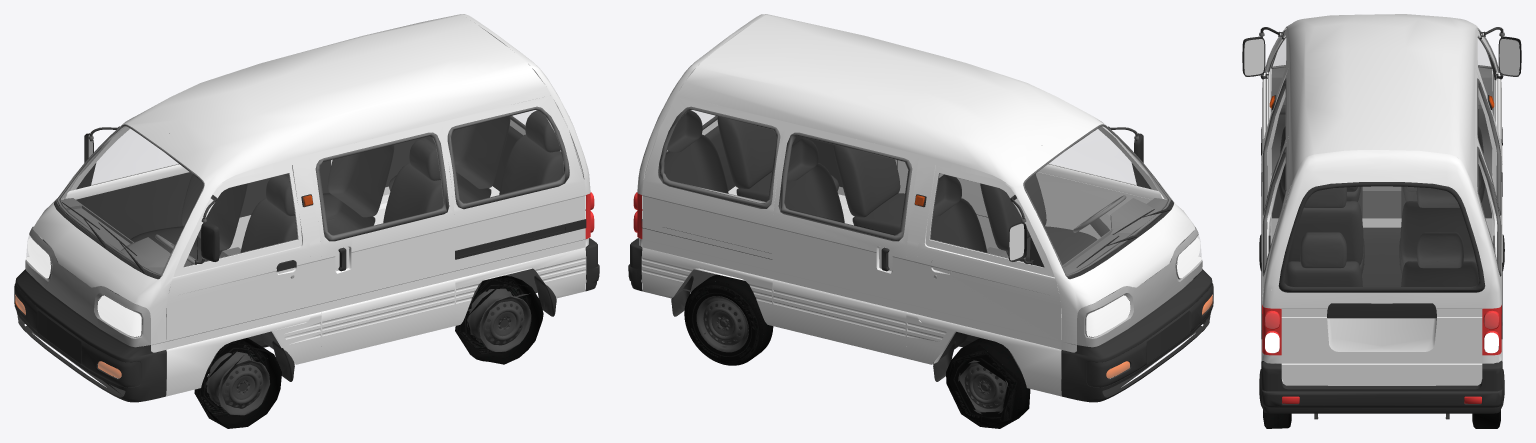
File: damas.glb
The picture shows the model from 3 angles, left to right: view 1: azimuth 30°, elevation 25°; view 2: azimuth 150°, elevation 25°; view 3: azimuth 270°, elevation 25°; orthographic projection. The views are drawn at different scales.
Parts seen in each view (by area): view 1: Object_13, Object_12, Object_17, Object_15, Object_19, Object_14, Object_22, Object_11, Object_21, Object_27, Object_25, Object_18 (+2 smaller); view 2: Object_13, Object_12, Object_17, Object_15, Object_19, Object_11, Object_22, Object_21, Object_18, Object_25, Object_23, Object_27 (+3 smaller); view 3: Object_13, Object_12, Object_17, Object_15, Object_19, Object_22, Object_14, Object_18, Object_2, Object_3, Object_23, Object_11 (+2 smaller).
Part boxes in pixels (box(x1,y1,x2,y2)): Object_13: box(33, 14, 588, 364); Object_12: box(64, 14, 590, 396); Object_17: box(26, 110, 563, 336); Object_15: box(130, 110, 563, 264); Object_19: box(14, 116, 599, 402); Object_14: box(76, 125, 563, 239); Object_22: box(28, 106, 569, 337); Object_11: box(194, 275, 543, 428); Object_21: box(25, 226, 294, 347); Object_27: box(205, 197, 531, 415); Object_25: box(220, 301, 524, 408); Object_18: box(34, 198, 240, 346); Object_13: box(639, 14, 1195, 364); Object_12: box(637, 14, 1163, 396); Object_17: box(664, 110, 1201, 336); Object_15: box(664, 110, 1097, 265); Object_19: box(628, 116, 1213, 402); Object_11: box(684, 274, 1030, 428); Object_22: box(658, 106, 1198, 337); Object_21: box(934, 227, 1202, 347); Object_18: box(987, 195, 1193, 343); Object_25: box(703, 300, 1005, 408); Object_23: box(642, 196, 1212, 378); Object_27: box(696, 197, 1013, 414); Object_13: box(1261, 14, 1502, 385); Object_12: box(1261, 29, 1502, 384); Object_17: box(1266, 38, 1497, 286); Object_15: box(1279, 126, 1484, 286); Object_19: box(1242, 36, 1521, 413); Object_22: box(1259, 32, 1504, 276); Object_14: box(1267, 166, 1496, 286); Object_18: box(1271, 67, 1492, 217); Object_2: box(1244, 38, 1519, 75); Object_3: box(1262, 305, 1501, 403); Object_23: box(1265, 312, 1498, 352); Object_11: box(1263, 361, 1500, 428).
Size of what is drawn, in the model's own units: 8.64 by 4.78 by 4.04.
15 materials, 1 textured.
